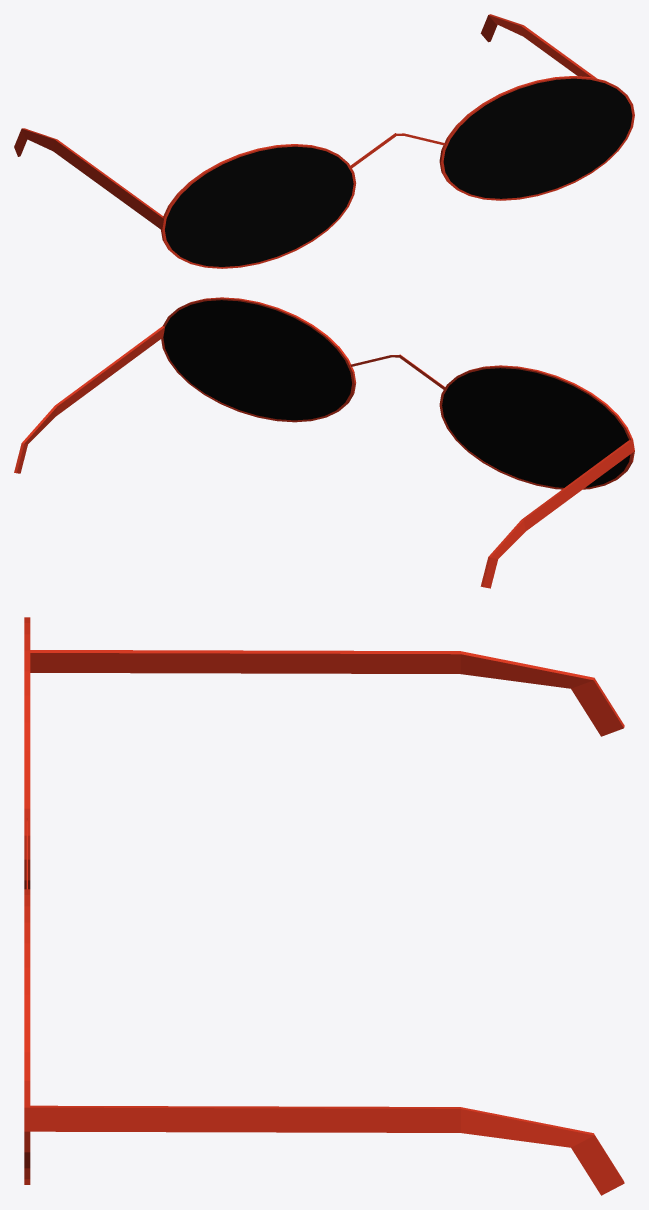
File: basicGlasses.glb
3 views of the same model, one above another, from view 1: azimuth 30°, elevation 25°; view 2: azimuth 150°, elevation 25°; view 3: azimuth 270°, elevation 25° (orthographic). The views are drawn at different scales.
Parts seen in each view (by area): view 1: Cylinder_2; view 2: Cylinder_2; view 3: Cylinder_2.
Boxes of the visible parts, x1,y1,x2,y2 form: Cylinder_2: [14, 14, 634, 268]; Cylinder_2: [14, 297, 634, 588]; Cylinder_2: [24, 617, 624, 1195].
Bounding box in the file's own units: 4.41 × 1.02 × 2.43.
